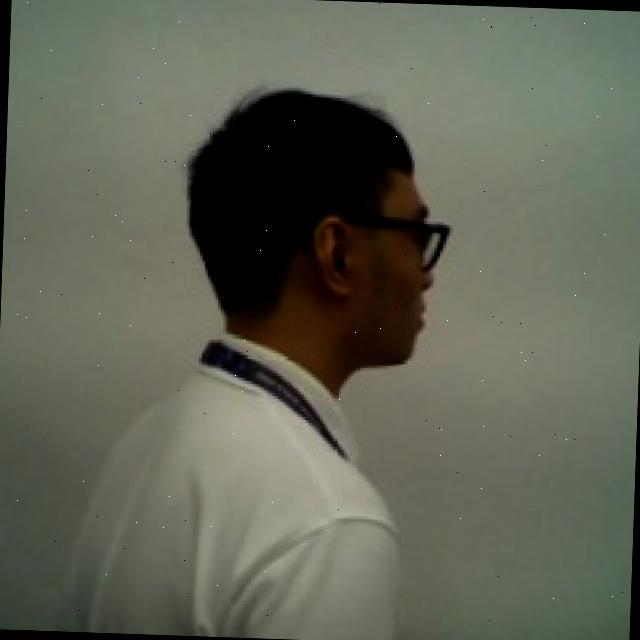no_gloves: (182, 81, 416, 314)
no_hairnet: (302, 209, 448, 393)
